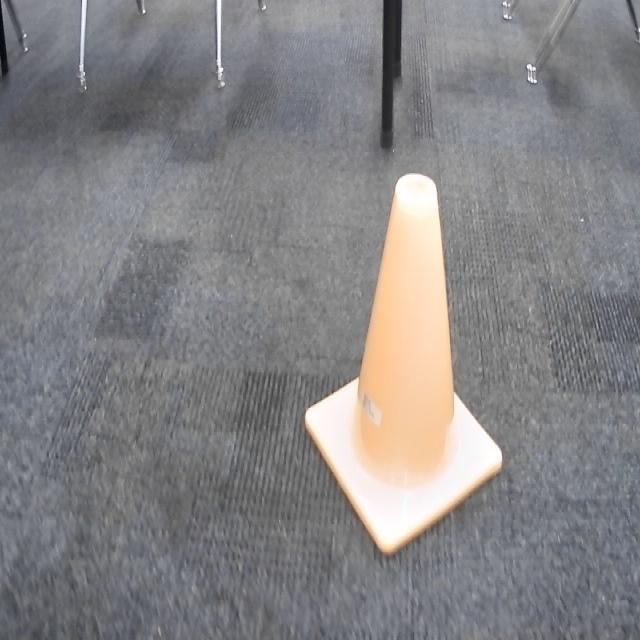cone: (301, 174, 505, 555)
